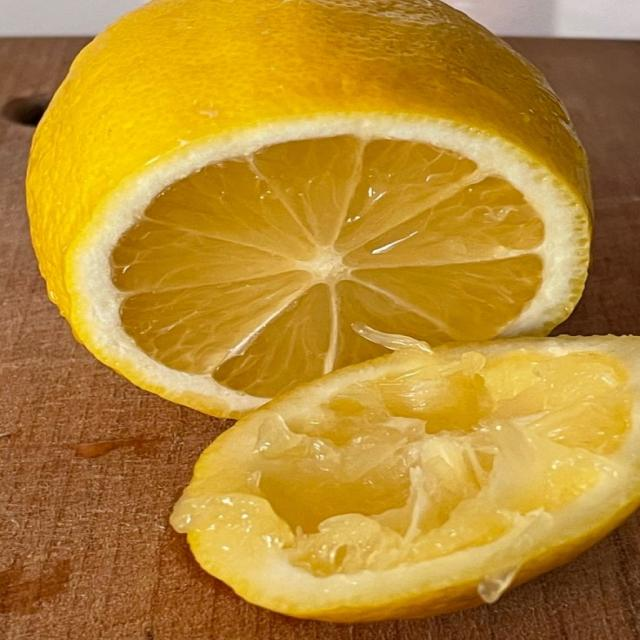lemon: (28, 0, 589, 416), (172, 337, 639, 621)
